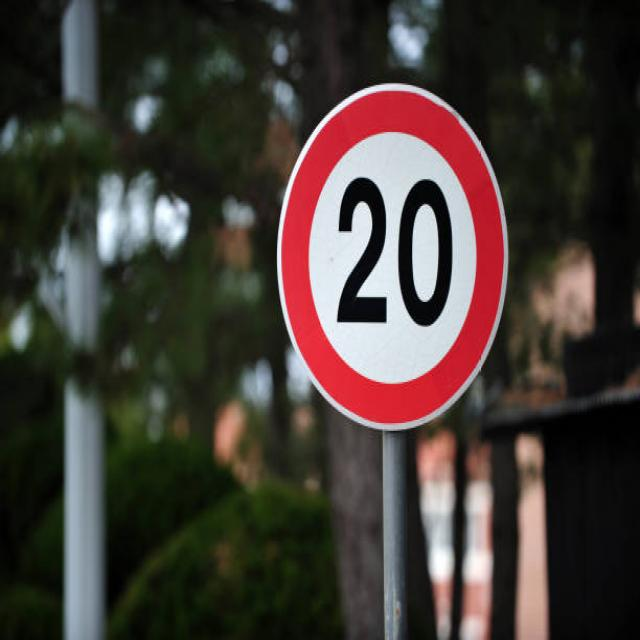speed_limit_20: (273, 77, 512, 434)
